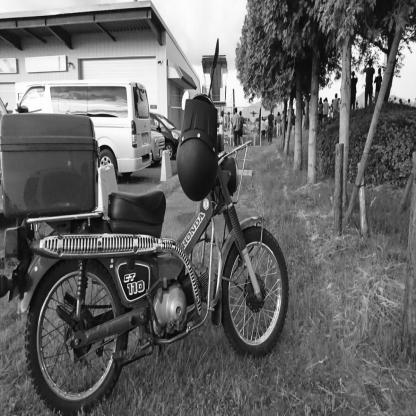V22: (225, 89, 277, 134), (225, 112, 260, 132)
